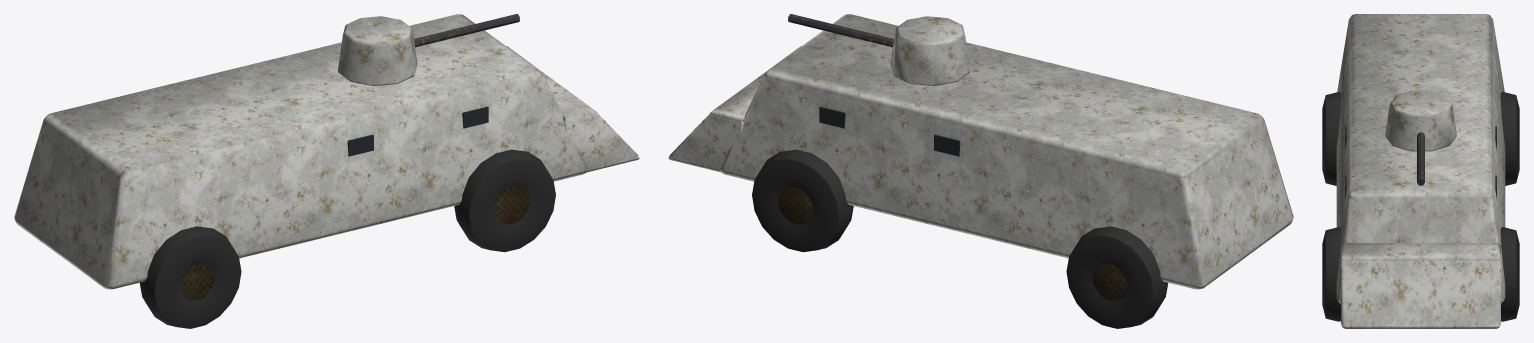
File: veh_brdm.gltf
The picture shows the model from 3 angles, left to right: view 1: azimuth 30°, elevation 25°; view 2: azimuth 150°, elevation 25°; view 3: azimuth 270°, elevation 25°; orthographic projection. The views are drawn at different scales.
Parts seen in each view (by area): view 1: box, torus, torus.002, cyl.004, box.001, cyl.002, cyl, cyl.005, box.002; view 2: box, torus.001, torus.003, cyl.004, box.001, cyl.003, cyl.001, cyl.005, box.003; view 3: box, box.001, cyl.004, torus, torus.001, torus.002, torus.003, cyl.005.
Boxes of the visible parts, x1,y1,x2,y2 form: box: [14, 14, 587, 289]; torus: [454, 149, 555, 252]; torus.002: [139, 226, 241, 328]; cyl.004: [337, 16, 417, 85]; box.001: [506, 46, 639, 172]; cyl.002: [180, 263, 215, 300]; cyl: [495, 186, 529, 224]; cyl.005: [414, 14, 519, 47]; box.002: [462, 106, 488, 128]; box: [720, 14, 1293, 289]; torus.001: [752, 149, 853, 252]; torus.003: [1066, 226, 1168, 328]; cyl.004: [890, 16, 970, 85]; box.001: [668, 46, 801, 172]; cyl.003: [1092, 263, 1127, 300]; cyl.001: [778, 186, 812, 224]; cyl.005: [788, 14, 893, 47]; box.003: [819, 106, 845, 128]; box: [1336, 14, 1505, 303]; box.001: [1341, 242, 1500, 328]; cyl.004: [1385, 91, 1456, 151]; torus: [1322, 227, 1341, 321]; torus.001: [1500, 227, 1519, 321]; torus.002: [1322, 92, 1341, 185]; torus.003: [1500, 92, 1519, 185]; cyl.005: [1417, 132, 1424, 185].
Bounding box in the file's own units: 6.32 × 2.29 × 2.28.
5 materials, 3 textured.
